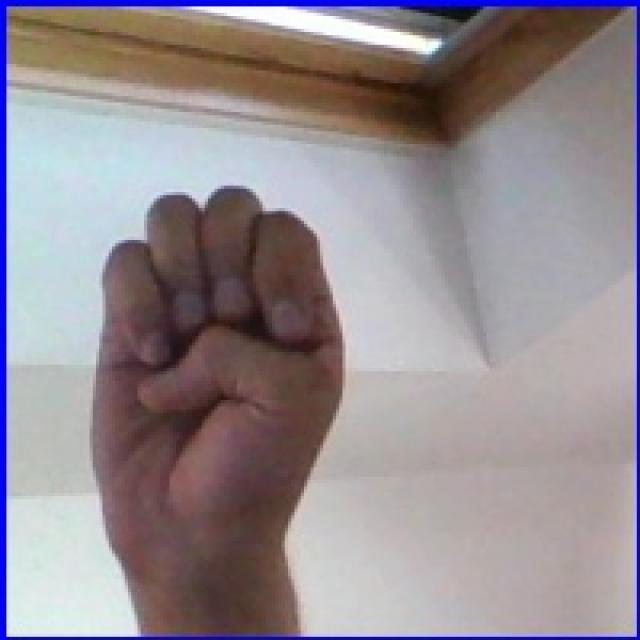Letra E: (59, 156, 368, 599)
